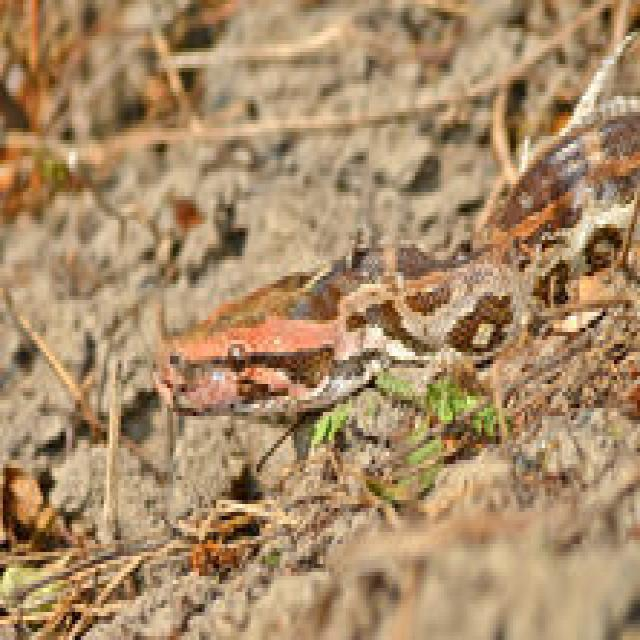Snake: (152, 28, 638, 424)
